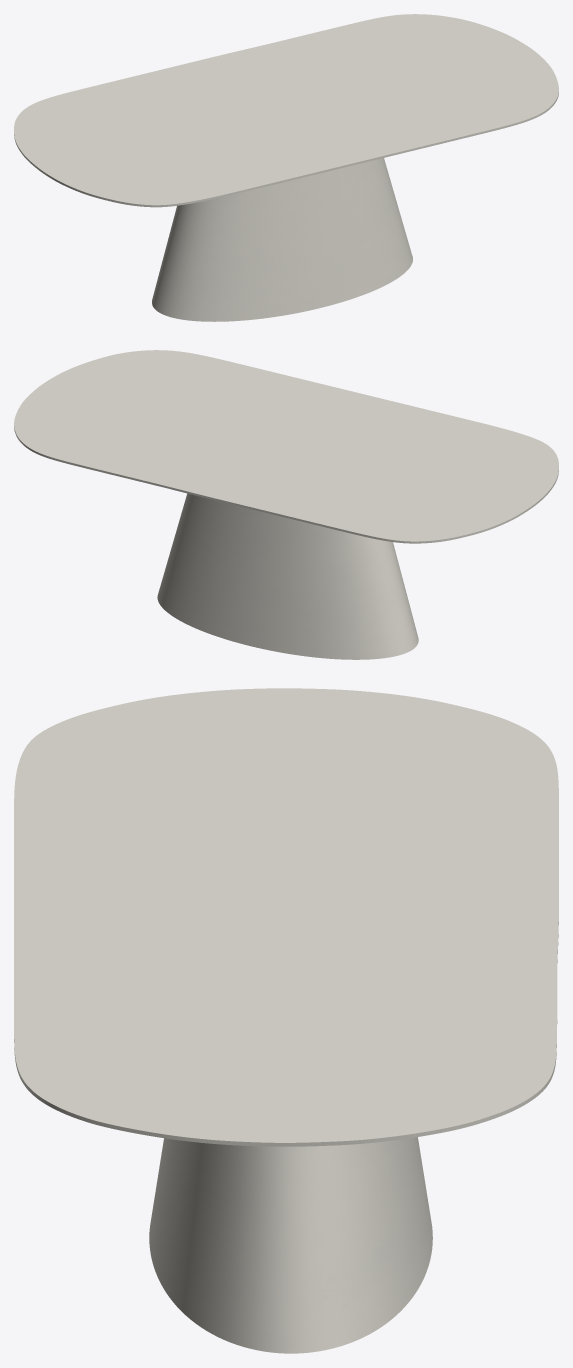
The model's file is pale_oval_facet_eqone.glb.
The picture shows the model from 3 angles, top to bottom: view 1: azimuth 30°, elevation 25°; view 2: azimuth 150°, elevation 25°; view 3: azimuth 270°, elevation 25°; orthographic projection. The views are drawn at different scales.
Parts seen in each view (by area): view 1: facet_oval, eqone; view 2: facet_oval, eqone; view 3: facet_oval, eqone.
Part boxes in pixels (box(x1,y1,x2,y2)): facet_oval: box(14, 14, 558, 207); eqone: box(152, 158, 412, 321); facet_oval: box(14, 350, 558, 543); eqone: box(157, 493, 418, 659); facet_oval: box(14, 688, 558, 1146); eqone: box(149, 1137, 432, 1353).
Size of the model in its own units: 7.5 by 2.5 by 3.8.
Materials: 1 (1 with a texture image).
